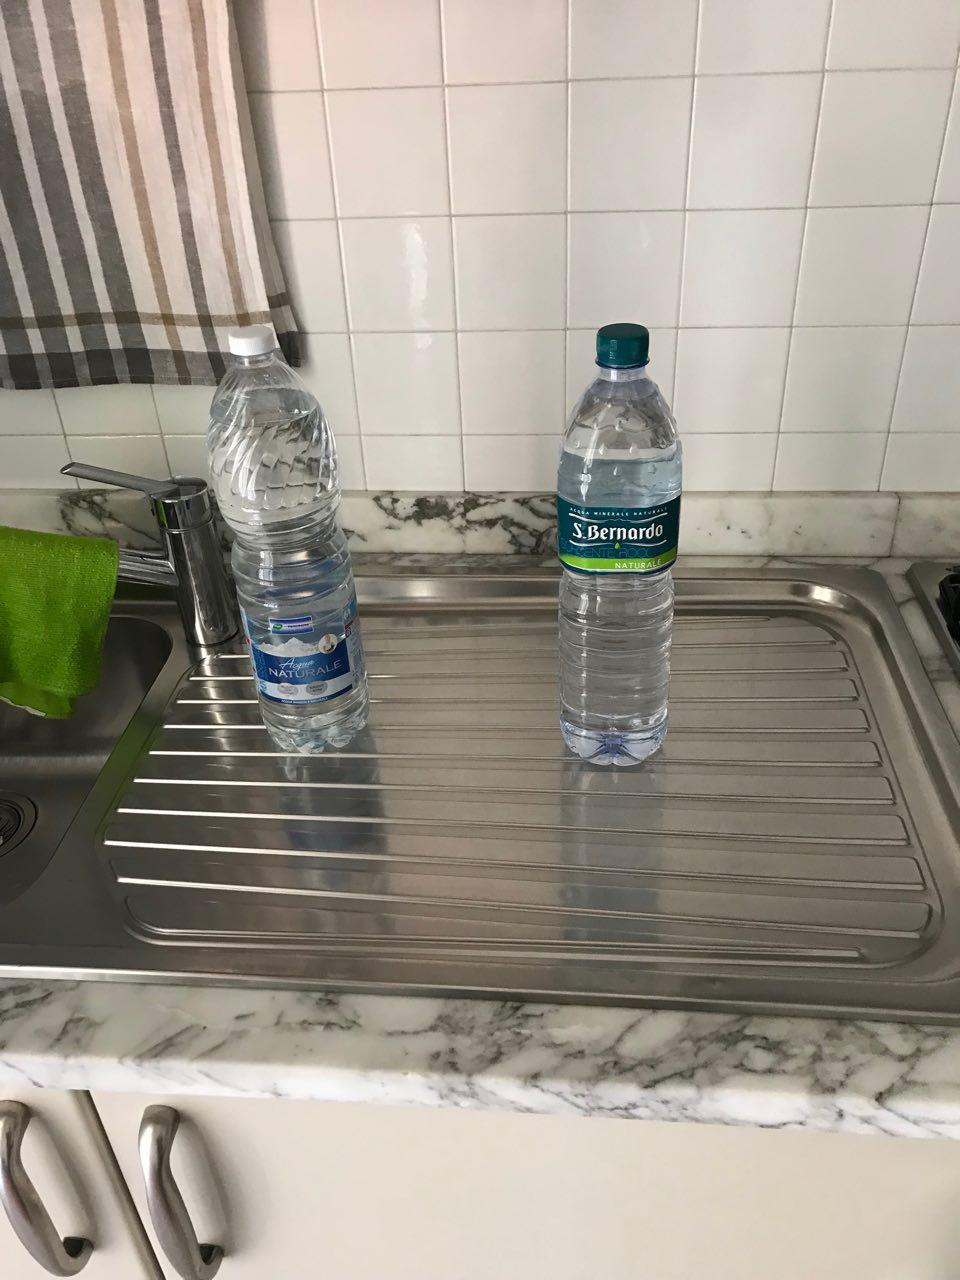san_bernardo: (555, 321, 684, 768)
